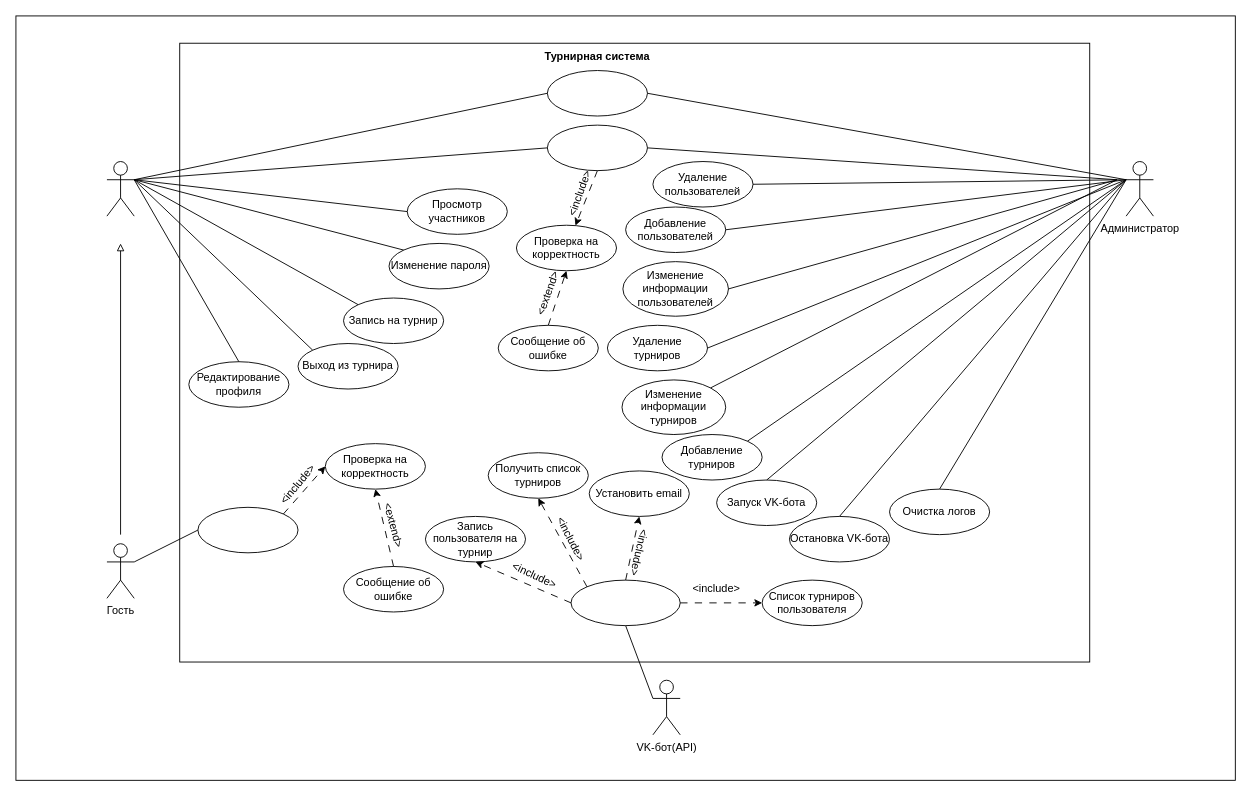
The diagram is 1251 pixels wide and 796 high, and some of its shapes have lost their labels. The shapes that lost their labels are listed below. From the top down, each one's centre as x and y in pixels, then its label:
point 596,93: Экспорт в Excel
point 596,147: Авторизация
point 120,188: Пользователь
point 247,529: Регистрация
point 625,602: Обработка команд пользователей
